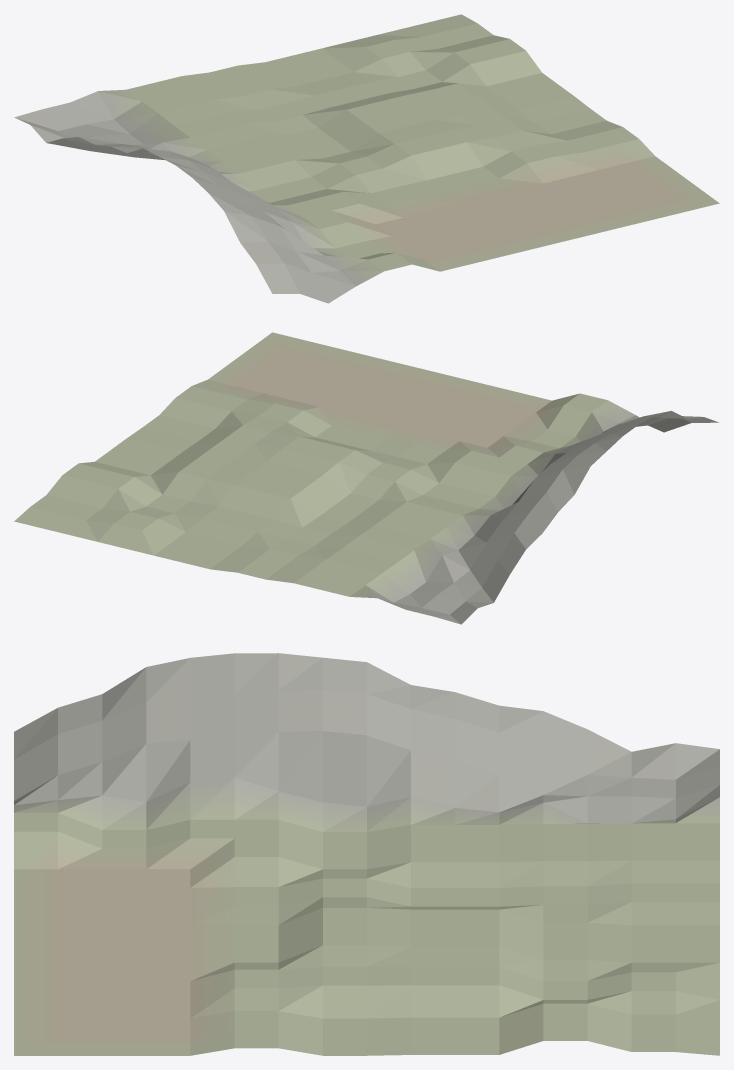
3 views of the same model, one above another, from view 1: azimuth 30°, elevation 25°; view 2: azimuth 150°, elevation 25°; view 3: azimuth 270°, elevation 25° (orthographic). The views are drawn at different scales.
Bounding box in the file's own units: 32 × 5.73 × 32.
